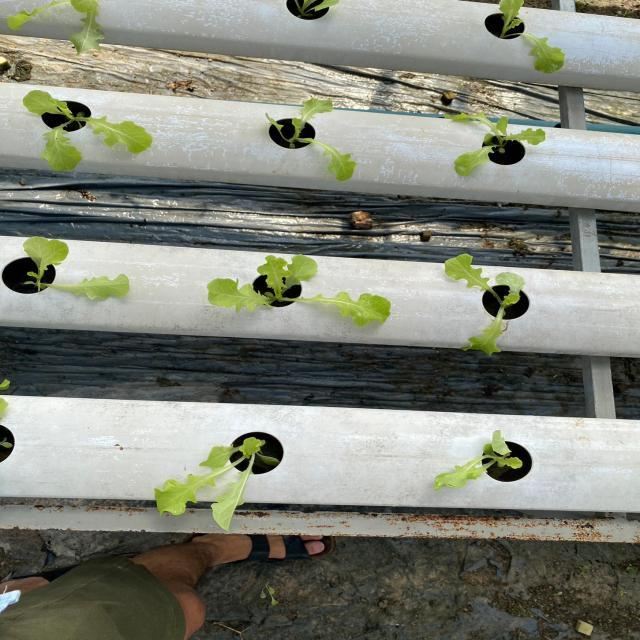Lettuce-Not-Ready-to-Harvest: (208, 255, 390, 326), (22, 90, 152, 172), (155, 438, 265, 531), (2, 236, 130, 301), (445, 254, 525, 354), (266, 98, 356, 181), (451, 114, 545, 176), (434, 430, 522, 489), (8, 0, 104, 53), (496, 0, 565, 73)
